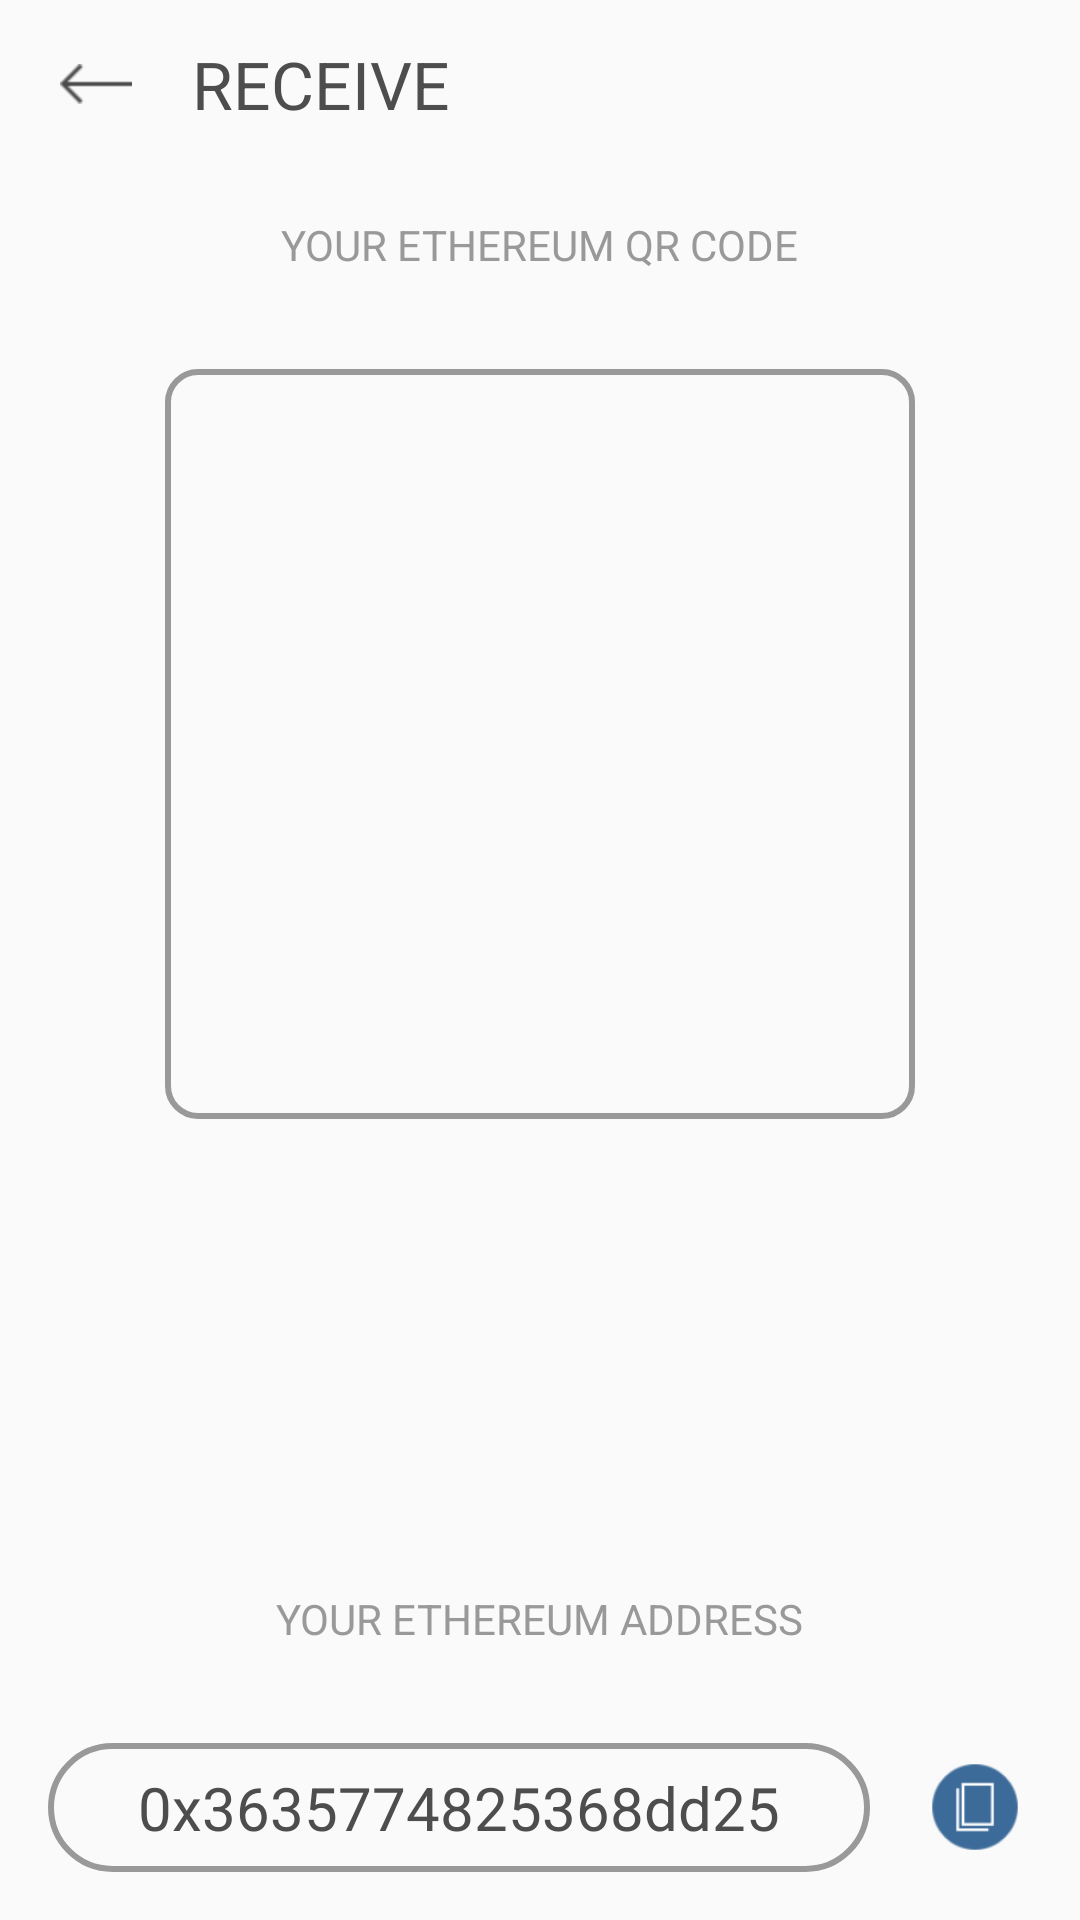

Screen size 1080*1920. Icon name, then its center in pixels as (x=x, y=y):
back: (x=96, y=84)
